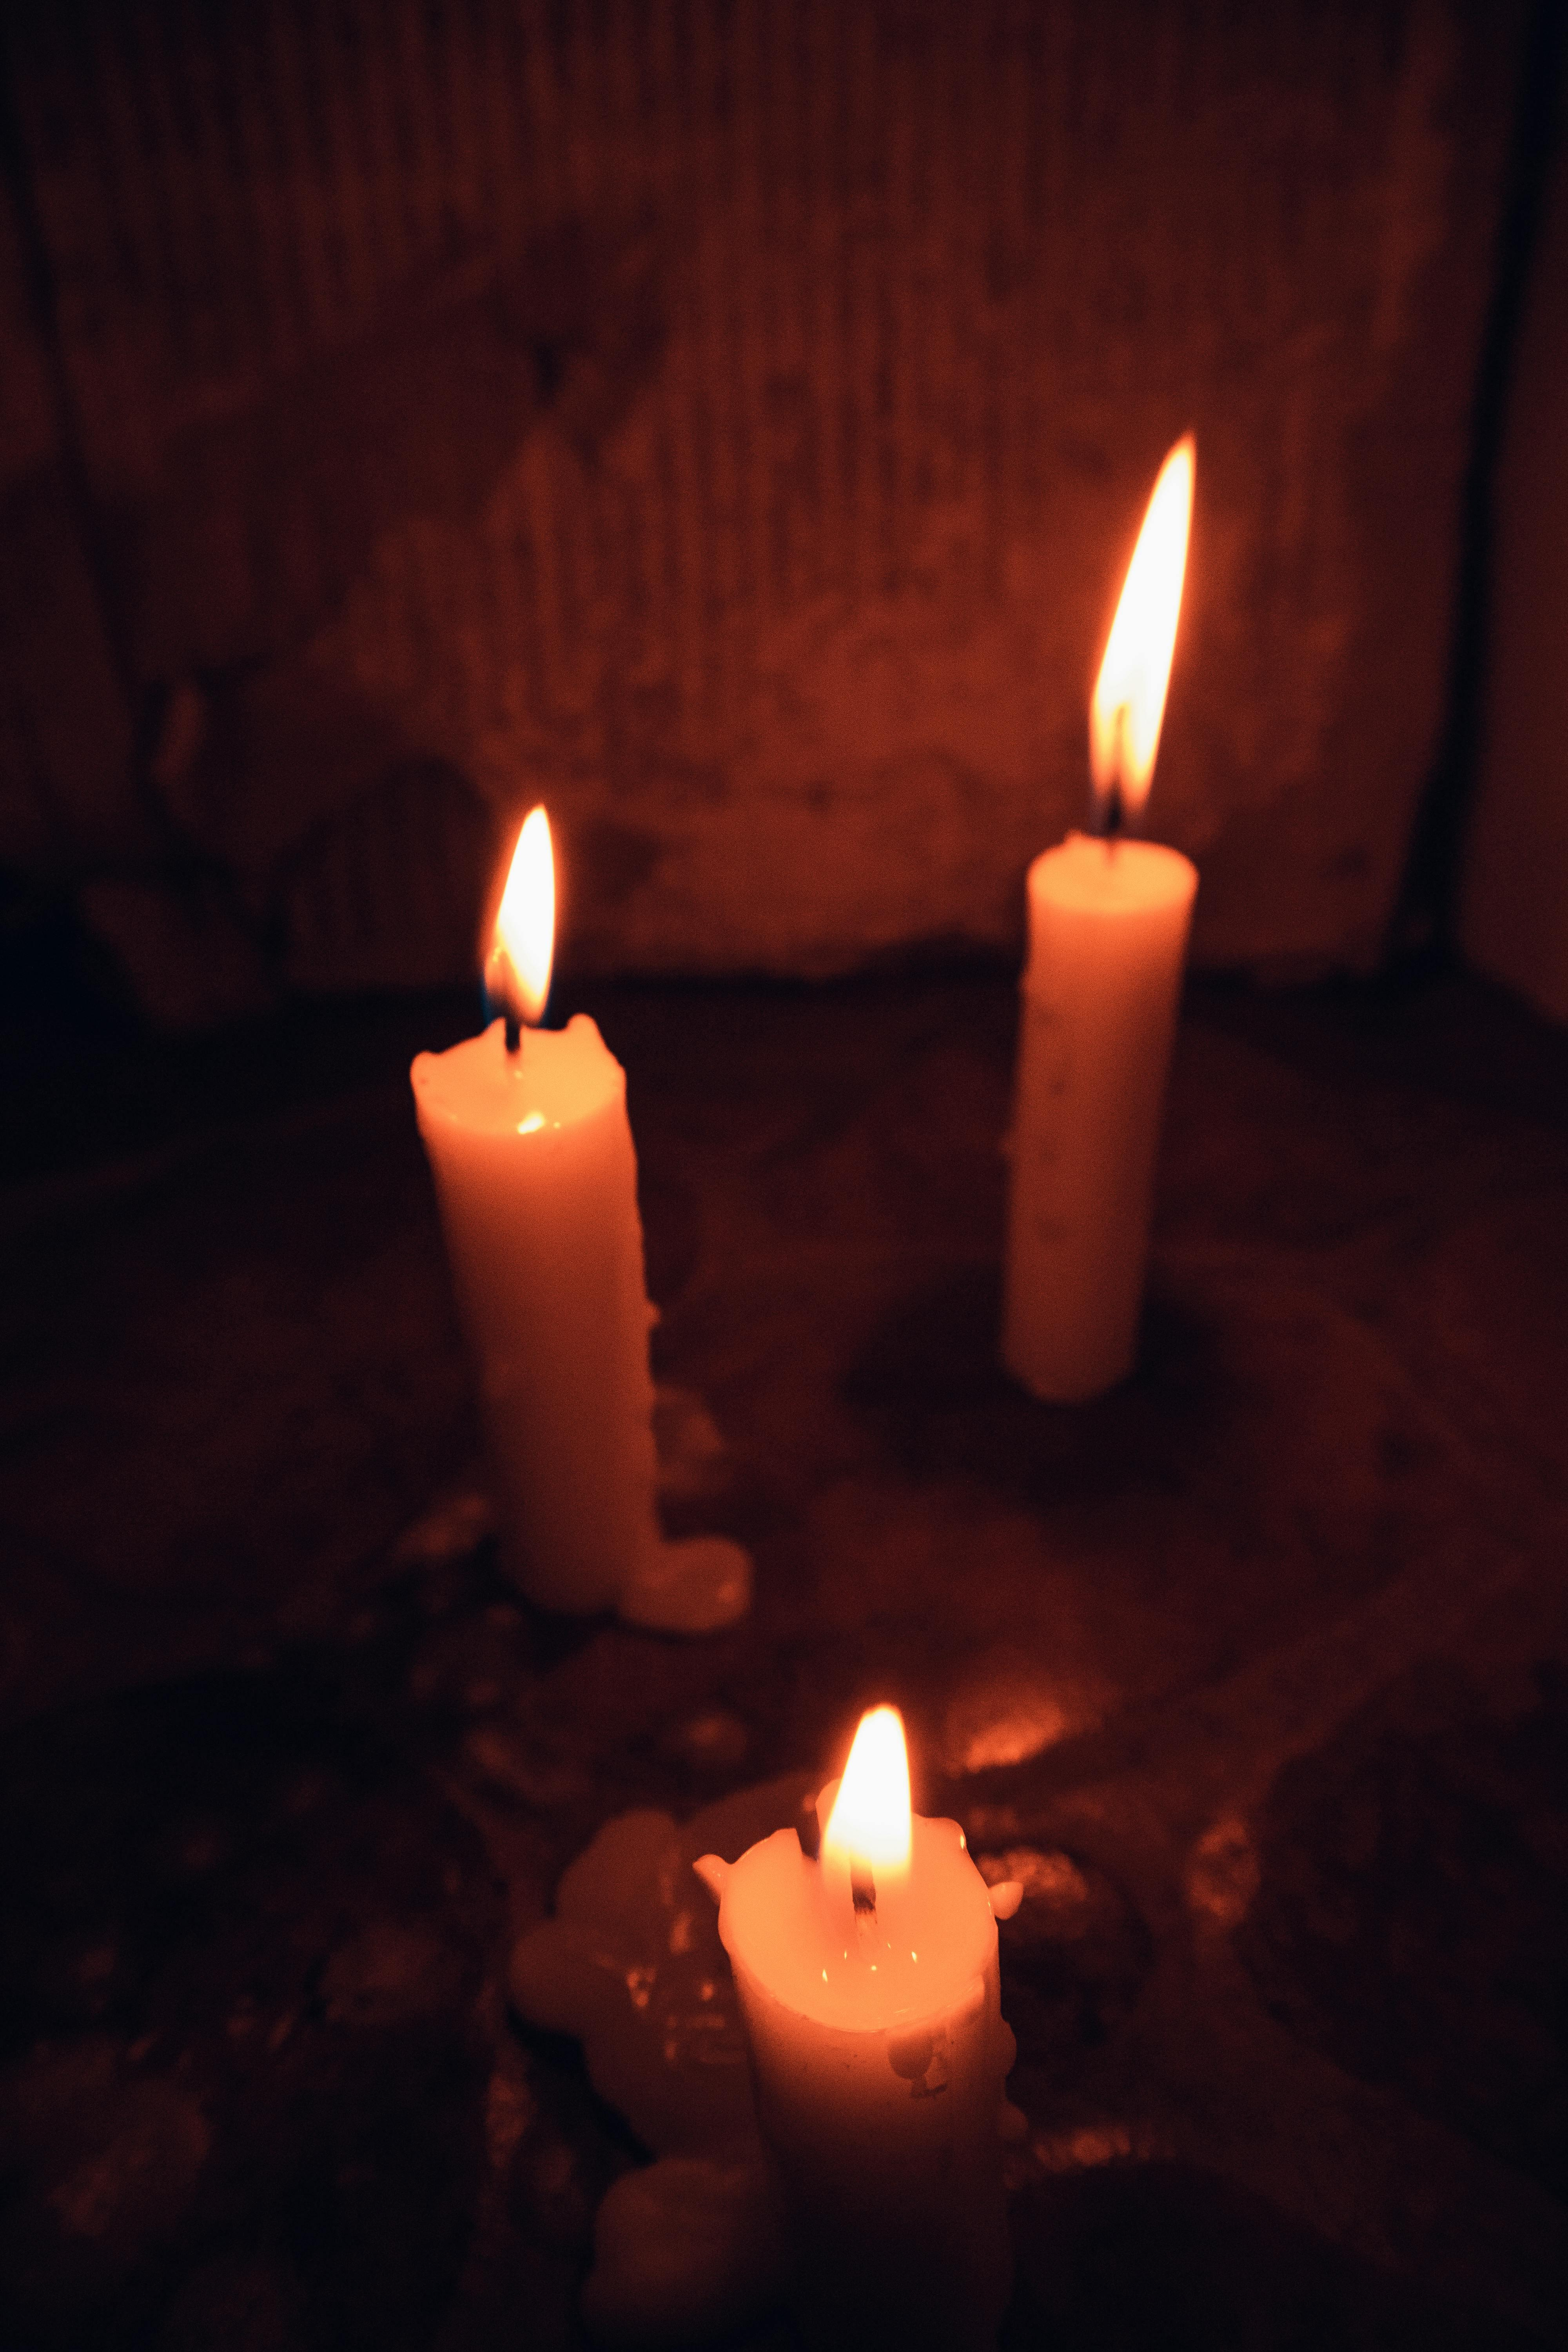Fire: (1071, 420, 1228, 849), (455, 784, 588, 1020), (796, 1682, 936, 1892)
